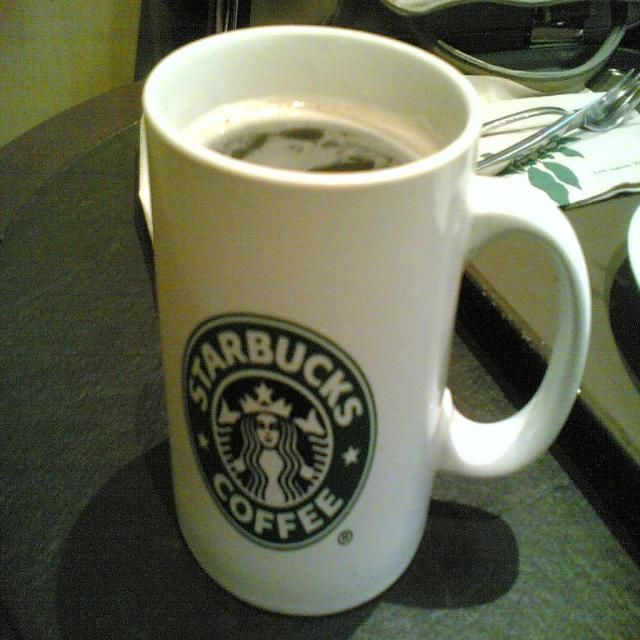starbucks: (181, 313, 381, 556)
